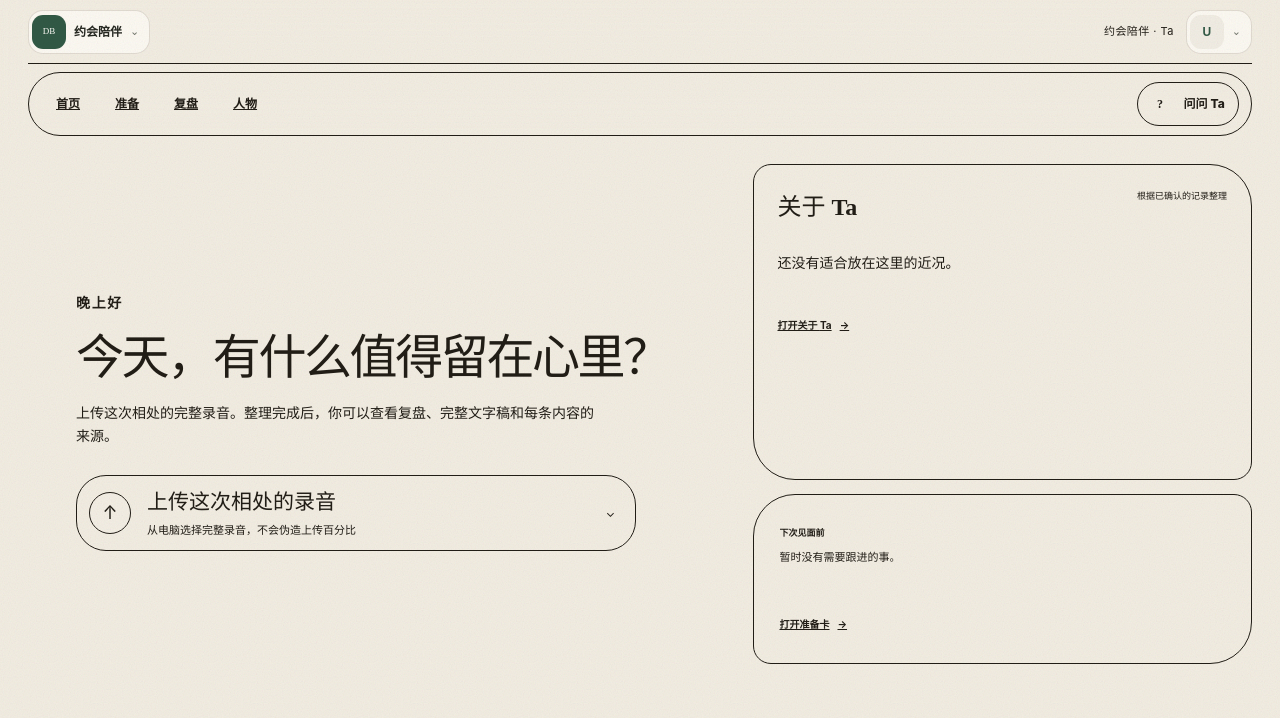
DateCompanionShell › keeps 问问 Ta fail closed with an actionable message until the two people are confirmed
Click the button "? 问问 Ta": coordinates (1188, 104) [1138,82,1239,126]
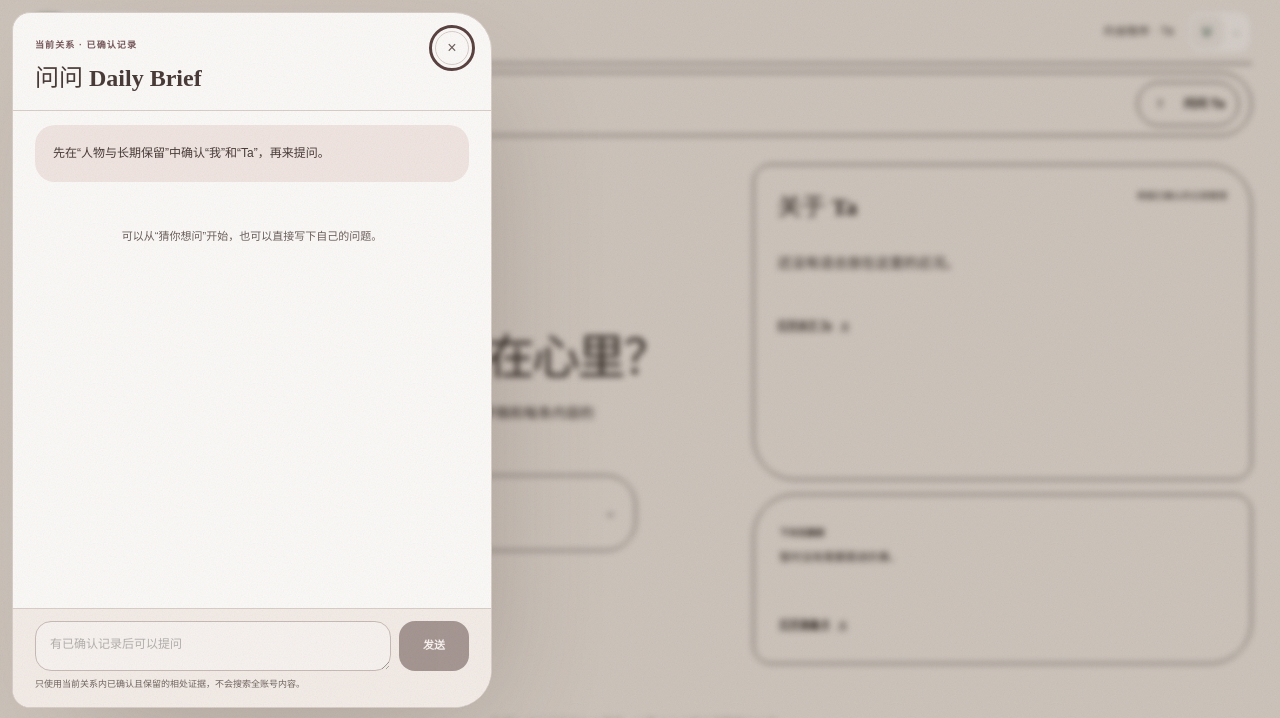
Check: the text "先在“人物与长期保留”中确认“我”和“Ta”，再来提问。" is shown, box [53,146,330,160]
Check: the text box named "向 Ta 的相处记录提问" is disabled, box [35,620,391,670]
